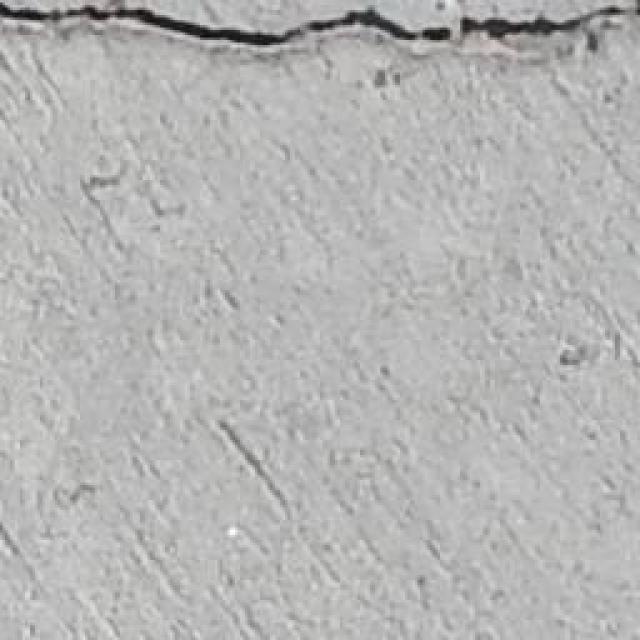concrete-crack: (0, 0, 628, 48)
